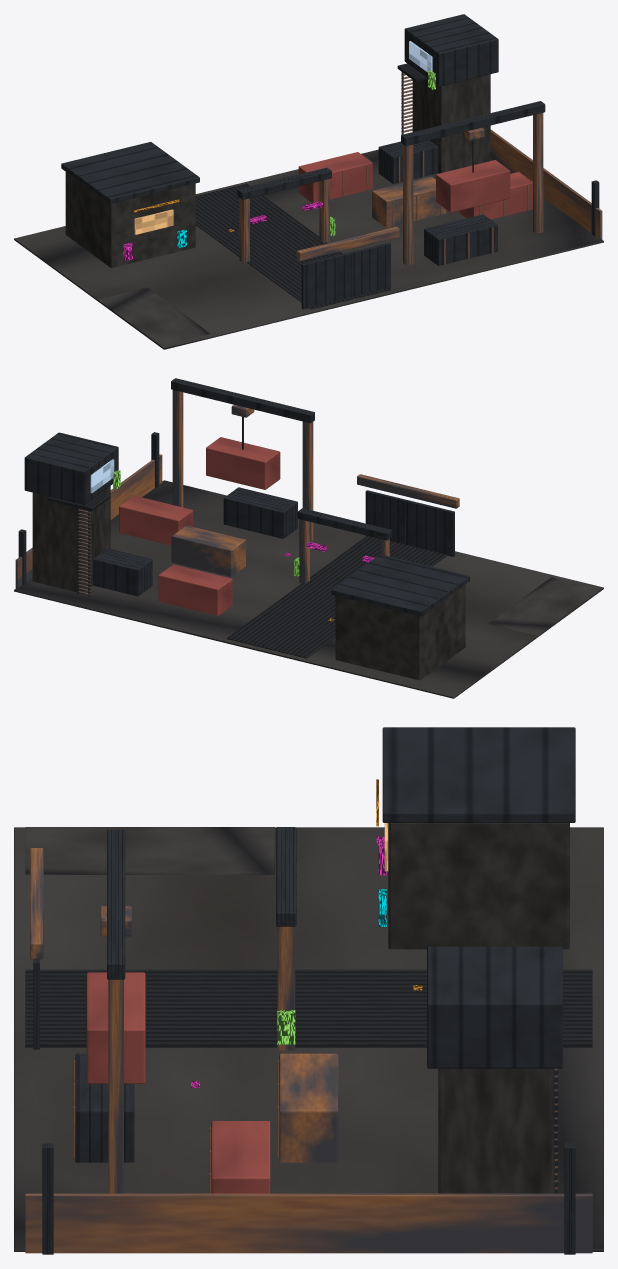
File: Hesperus_FreightInspectionYard.glb
3 views of the same model, one above another, from view 1: azimuth 30°, elevation 25°; view 2: azimuth 150°, elevation 25°; view 3: azimuth 270°, elevation 25° (orthographic). The views are drawn at different scales.
Visible parts, largest first — view 1: FY_YardSlab, FY_GatehouseMass, FY_InspectionLane, FY_TowerMass, FY_GatehouseRoof, FY_TowerCab, FY_WestRampClearance, FY_SuspendedCoverContainer, FY_EastFence, FY_Container_E, FY_OutboundGate_L, FY_Container_A (+13 smaller); view 2: FY_YardSlab, FY_GatehouseMass, FY_InspectionLane, FY_TowerMass, FY_GatehouseRoof, FY_TowerCab, FY_WestRampClearance, FY_SuspendedCoverContainer, FY_Container_A, FY_Container_C, FY_Container_E, FY_Container_D (+12 smaller); view 3: FY_YardSlab, FY_EastFence, FY_InspectionLane, FY_GatehouseMass, FY_GatehouseRoof, FY_TowerCab, FY_TowerMass, FY_WestRampClearance, FY_Container_C, FY_SuspendedCoverContainer, FY_Container_D, FY_Container_E (+7 smaller).
Boxes of the visible parts, box(x1,y1,x2,y2) form: FY_YardSlab: box(14, 149, 603, 349); FY_GatehouseMass: box(65, 172, 195, 267); FY_InspectionLane: box(195, 183, 390, 309); FY_TowerMass: box(412, 74, 490, 173); FY_GatehouseRoof: box(61, 142, 199, 203); FY_TowerCab: box(404, 14, 498, 86); FY_WestRampClearance: box(98, 287, 210, 345); FY_SuspendedCoverContainer: box(436, 160, 510, 212); FY_EastFence: box(490, 129, 602, 239); FY_Container_E: box(424, 214, 497, 265); FY_OutboundGate_L: box(301, 252, 350, 309); FY_Container_A: box(298, 152, 372, 202); FY_YardSlab: box(14, 480, 603, 698); FY_GatehouseMass: box(335, 584, 465, 680); FY_InspectionLane: box(227, 535, 447, 658); FY_TowerMass: box(32, 486, 110, 592); FY_GatehouseRoof: box(331, 554, 469, 616); FY_TowerCab: box(24, 432, 118, 504); FY_WestRampClearance: box(488, 577, 600, 635); FY_SuspendedCoverContainer: box(206, 437, 280, 489); FY_Container_A: box(158, 564, 232, 615); FY_Container_C: box(171, 525, 245, 576); FY_Container_E: box(223, 487, 297, 538); FY_Container_D: box(119, 495, 193, 545); FY_YardSlab: box(14, 827, 603, 1251); FY_EastFence: box(25, 1193, 592, 1253); FY_InspectionLane: box(25, 969, 592, 1047); FY_GatehouseMass: box(388, 823, 569, 949); FY_GatehouseRoof: box(382, 727, 575, 822); FY_TowerCab: box(427, 946, 562, 1068); FY_TowerMass: box(438, 1068, 551, 1193); FY_WestRampClearance: box(25, 827, 274, 874); FY_Container_C: box(279, 1053, 338, 1162); FY_SuspendedCoverContainer: box(86, 972, 145, 1083); FY_Container_D: box(211, 1121, 270, 1193); FY_Container_E: box(75, 1053, 134, 1162).
Size of the model in its own units: 44.25 by 12.4 by 26.
Materials: 12 (12 with a texture image).
